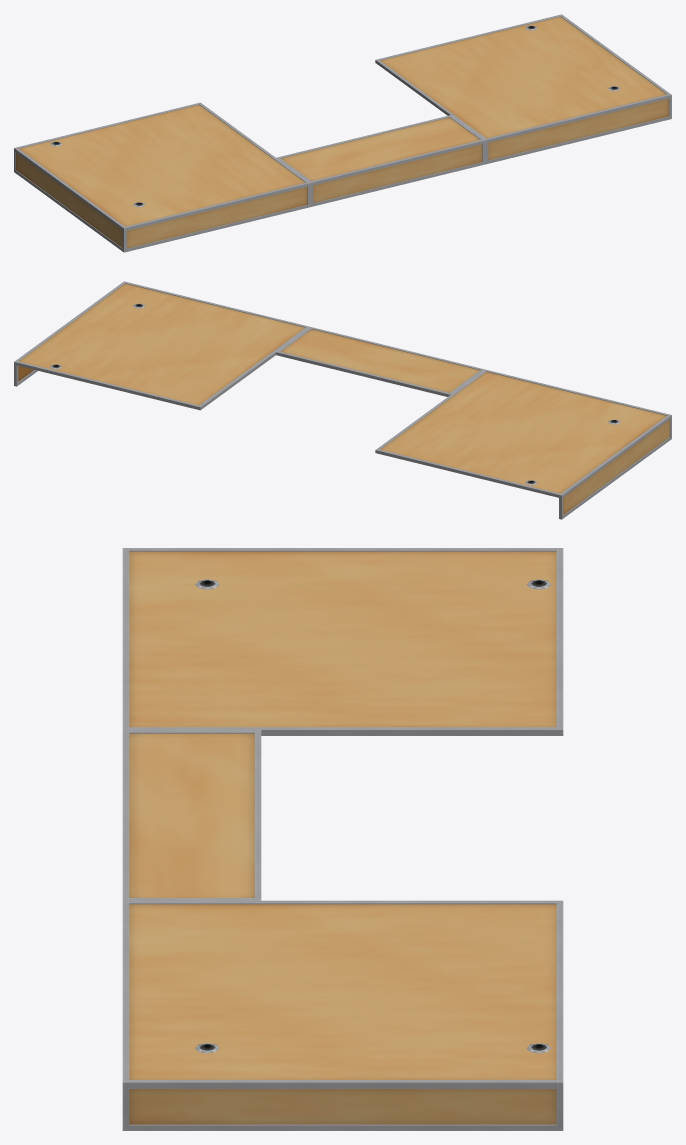
Rendered from jsf_4P_s03_c05_t02_DX.fbx.
The picture shows the model from 3 angles, top to bottom: view 1: azimuth 30°, elevation 25°; view 2: azimuth 150°, elevation 25°; view 3: azimuth 270°, elevation 25°; orthographic projection. The views are drawn at different scales.
Visible parts, largest first — view 1: jsf_4P_s03_c05_t02_DX; view 2: jsf_4P_s03_c05_t02_DX; view 3: jsf_4P_s03_c05_t02_DX.
Boxes of the visible parts, left/top/right/bottom form: jsf_4P_s03_c05_t02_DX: left=14, top=14, right=671, bottom=252; jsf_4P_s03_c05_t02_DX: left=14, top=281, right=671, bottom=519; jsf_4P_s03_c05_t02_DX: left=122, top=548, right=563, bottom=1130.
Bounding box in the file's own units: 298 × 12.99 × 104.
